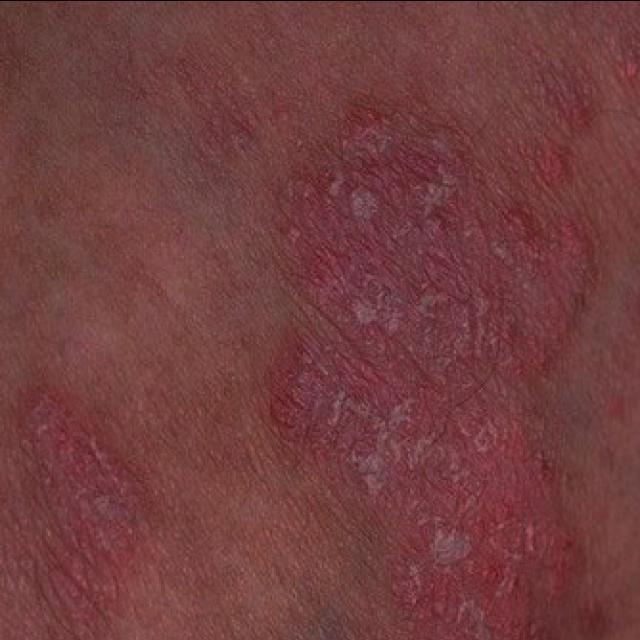Psoriasis: (262, 50, 618, 640), (0, 360, 176, 640)
